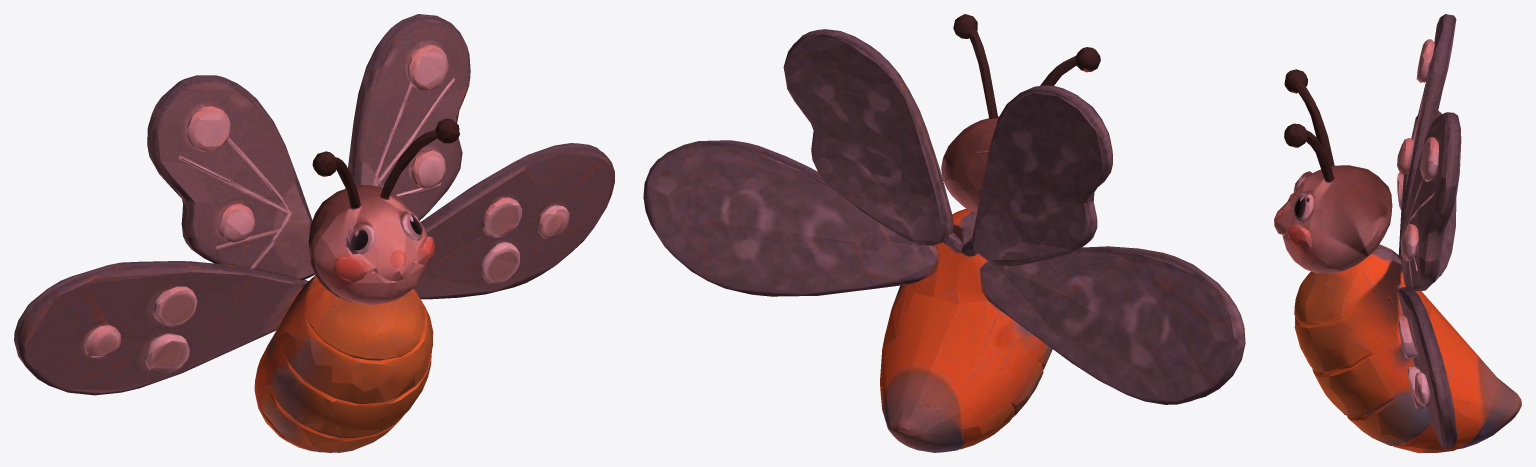
Rendered from butterfly.441f9f27.glb.
The picture shows the model from 3 angles, left to right: view 1: azimuth 30°, elevation 25°; view 2: azimuth 150°, elevation 25°; view 3: azimuth 270°, elevation 25°; orthographic projection. The views are drawn at different scales.
Parts seen in each view (by area): view 1: output_unwrapped; view 2: output_unwrapped; view 3: output_unwrapped.
Boxes of the visible parts, x1,y1,x2,y2 form: output_unwrapped: (14,14,614,452); output_unwrapped: (643,14,1245,452); output_unwrapped: (1274,14,1521,452).
Bounding box in the file's own units: 1.9 × 1.2 × 0.714.
1 material, 1 textured.
